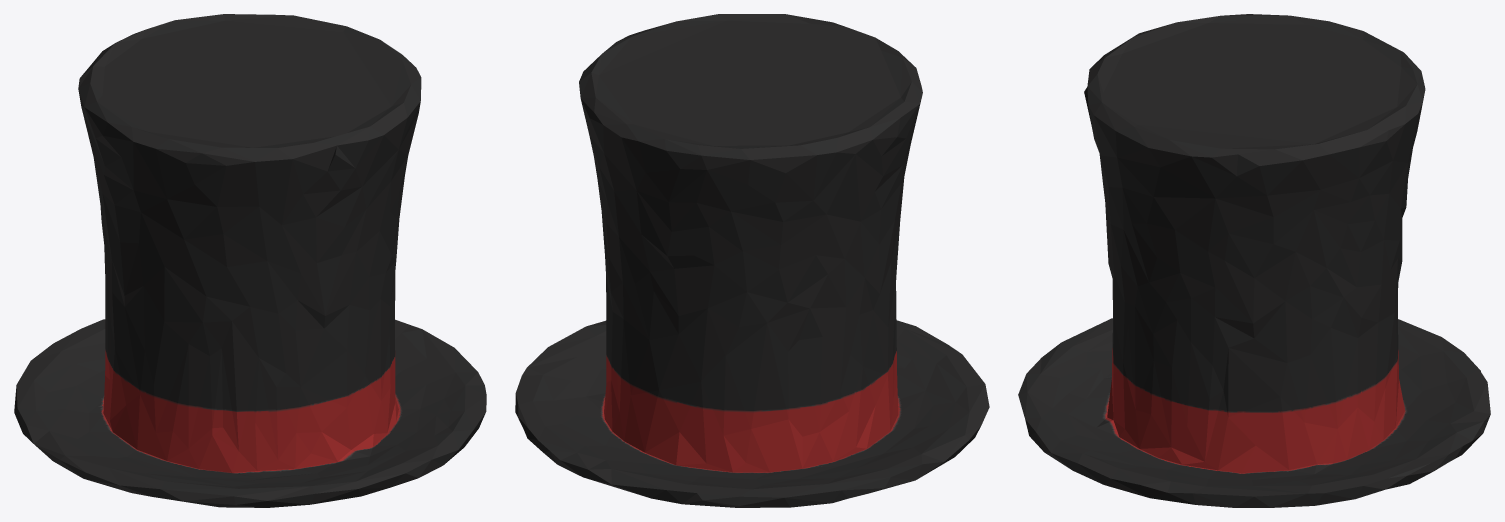
File: hat-top-hat.glb
3 renders of one model, left to right at view 1: azimuth 30°, elevation 25°; view 2: azimuth 150°, elevation 25°; view 3: azimuth 270°, elevation 25°, orthographic.
Visible parts, largest first — view 1: world; view 2: world; view 3: world.
Part boxes in pixels (x1,y1,x2,y2): world: [14, 14, 486, 507]; world: [515, 14, 989, 507]; world: [1018, 14, 1490, 507].
Bounding box in the file's own units: 0.4675 × 0.4 × 0.4691.
Materials: 1 (1 with a texture image).
